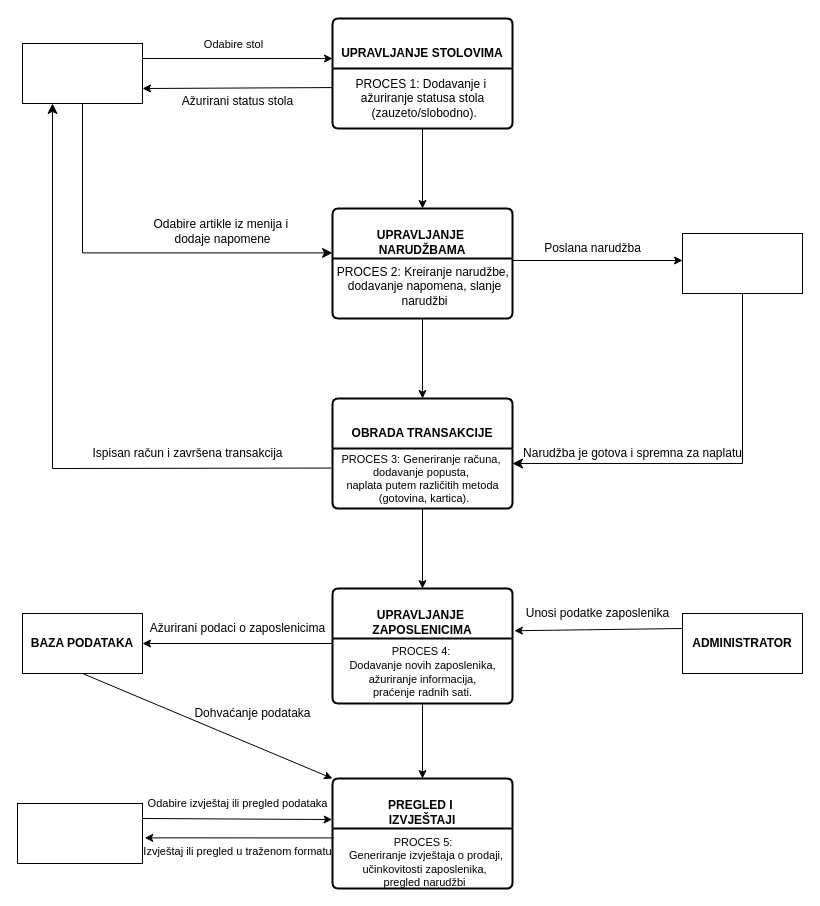
The diagram is 820 pixels wide and 906 high, and some of its shapes have lost their labels. The centre of each missing label's shape, as x and y in pixels:
"KONOBAR" belongs at (x=82, y=73).
"MENADŽER" belongs at (x=79, y=833).
"ŠANK / KUHINJA" belongs at (x=742, y=263).
